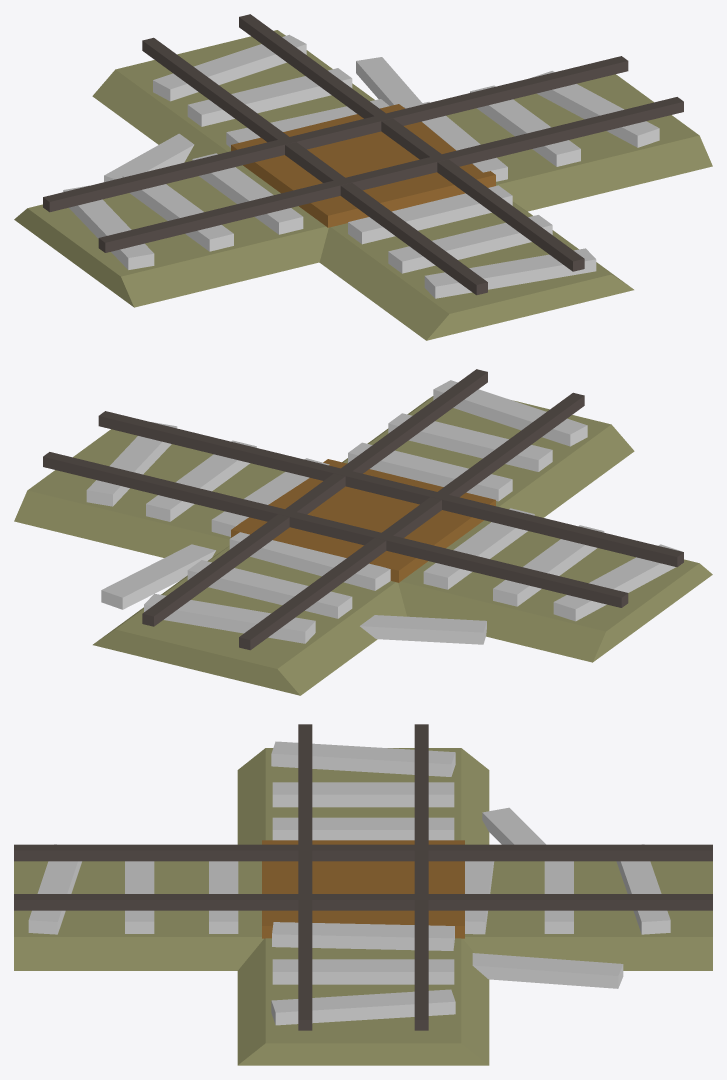
Rendered from SM_Via_Cruce_v4_Danada_LOD1.fbx.
3 views of the same model, one above another, from view 1: azimuth 30°, elevation 25°; view 2: azimuth 150°, elevation 25°; view 3: azimuth 270°, elevation 25° (orthographic). The views are drawn at different scales.
Visible parts, largest first — view 1: SM_via_trazado_v44_LOD1; view 2: SM_via_trazado_v44_LOD1; view 3: SM_via_trazado_v44_LOD1.
Boxes of the visible parts, bbox=[...] form: SM_via_trazado_v44_LOD1: bbox=[14, 14, 712, 340]; SM_via_trazado_v44_LOD1: bbox=[14, 369, 712, 695]; SM_via_trazado_v44_LOD1: bbox=[14, 724, 712, 1065].
Bounding box in the file's own units: 10 × 0.722 × 10.
